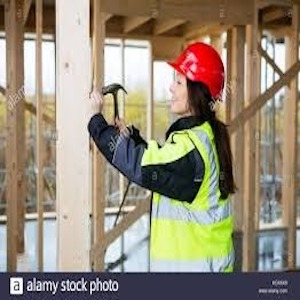safety: (169, 40, 226, 94)
vest: (149, 123, 237, 270)
